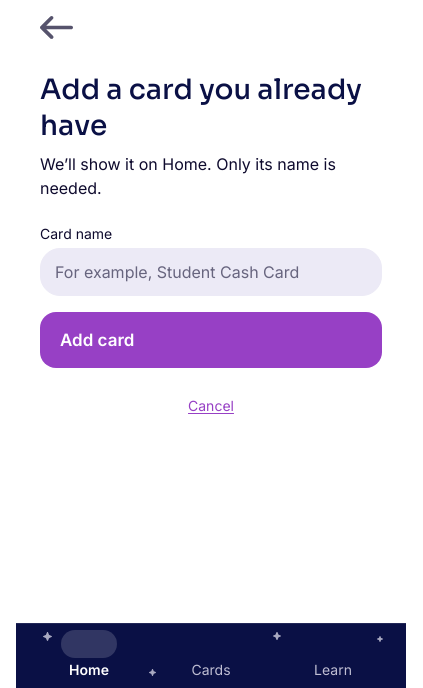
Test: AddCardScreen › on a network failure, says the card may have been saved instead of inviting a duplicate
Type "Student Cash Card" into the field labelled "Card name" at (214, 272), box [55,249,373,295]
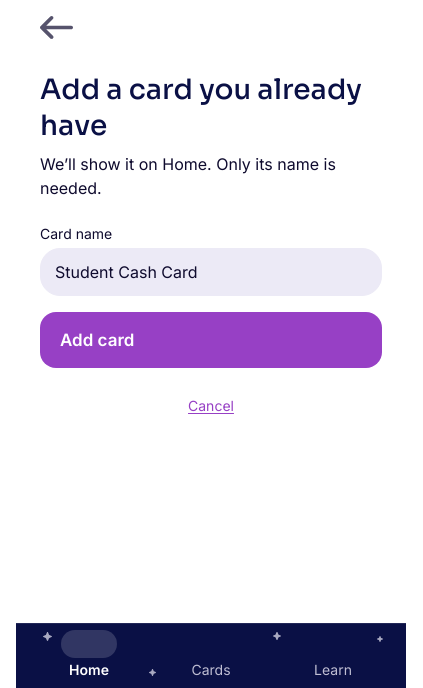
Click the button "Add card" at (97, 340), box [40,312,382,368]
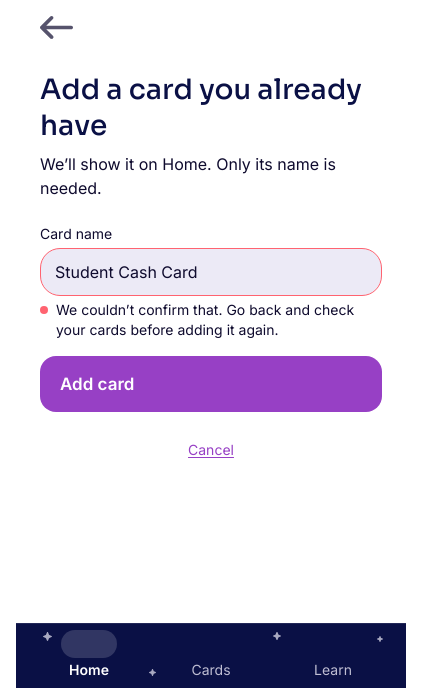
Expected: the button "Add card" is enabled, [40,356,382,412]
Expected: the message reads "We couldn’t confirm that. Go back and check your cards before adding it again.", [56,301,354,338]
